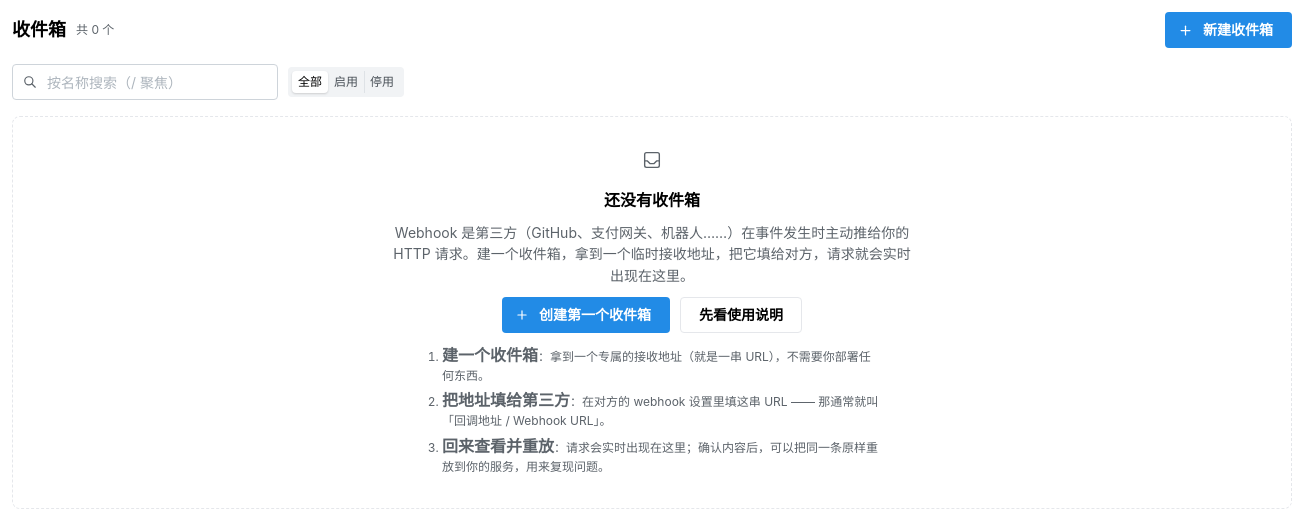
Test: InboxesScreen › tells "no matches" apart from "nothing yet" once a filter is active
This screenshot has width=1304, height=526.
Expected: the heading "还没有收件箱" is shown, [604,188,700,212]
In the field with placeholder "按名称搜索（/ 聚焦）": (145, 82) [12,64,278,100], type "zzz"
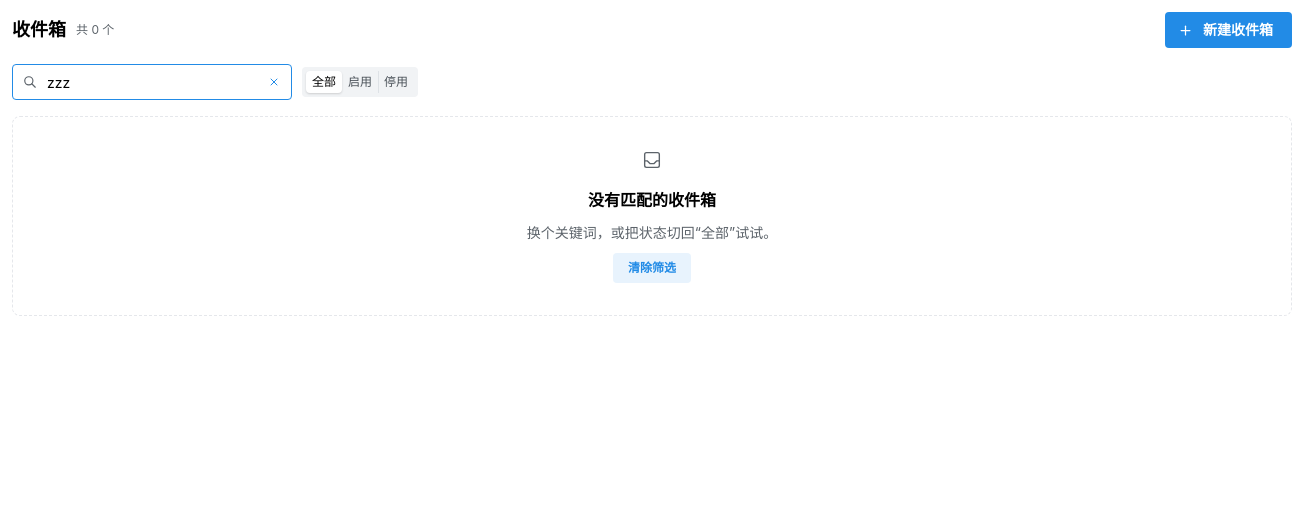
Expected: the heading "没有匹配的收件箱" is shown, [588,188,716,212]
Expected: the button "清除筛选" is shown, [613,254,691,284]
Expected: the text "建一个收件箱" is gone
